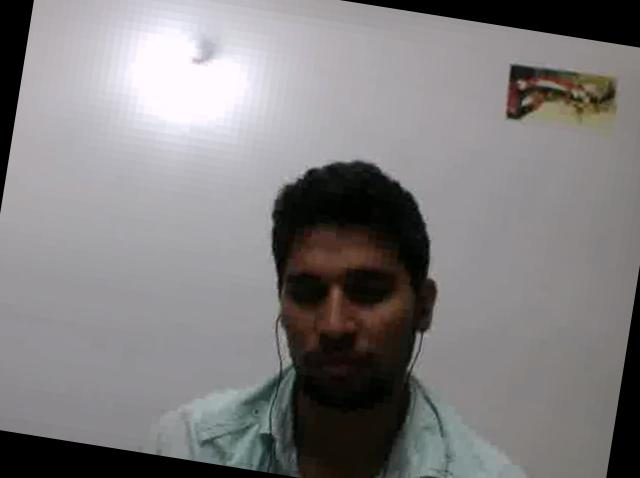bosan: (258, 218, 422, 411)
